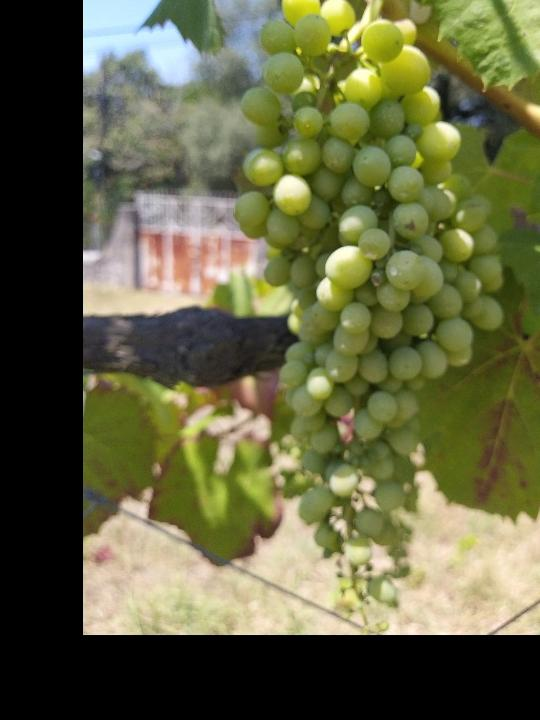grape: (234, 0, 506, 623)
